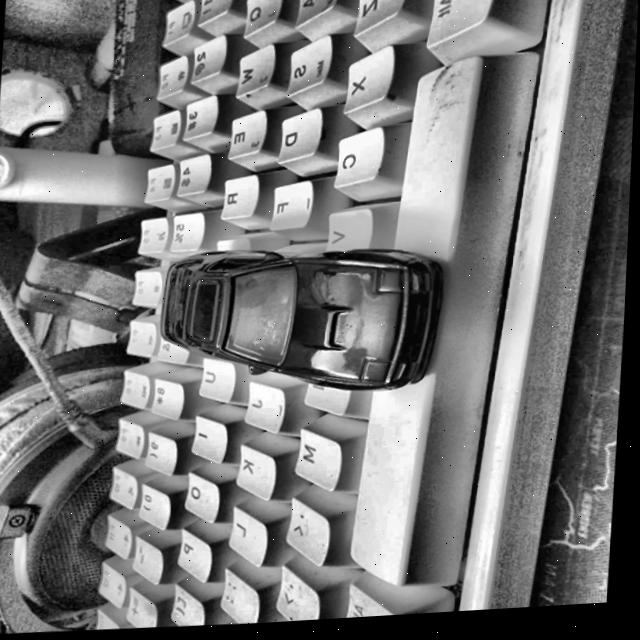car: (158, 240, 449, 406)
